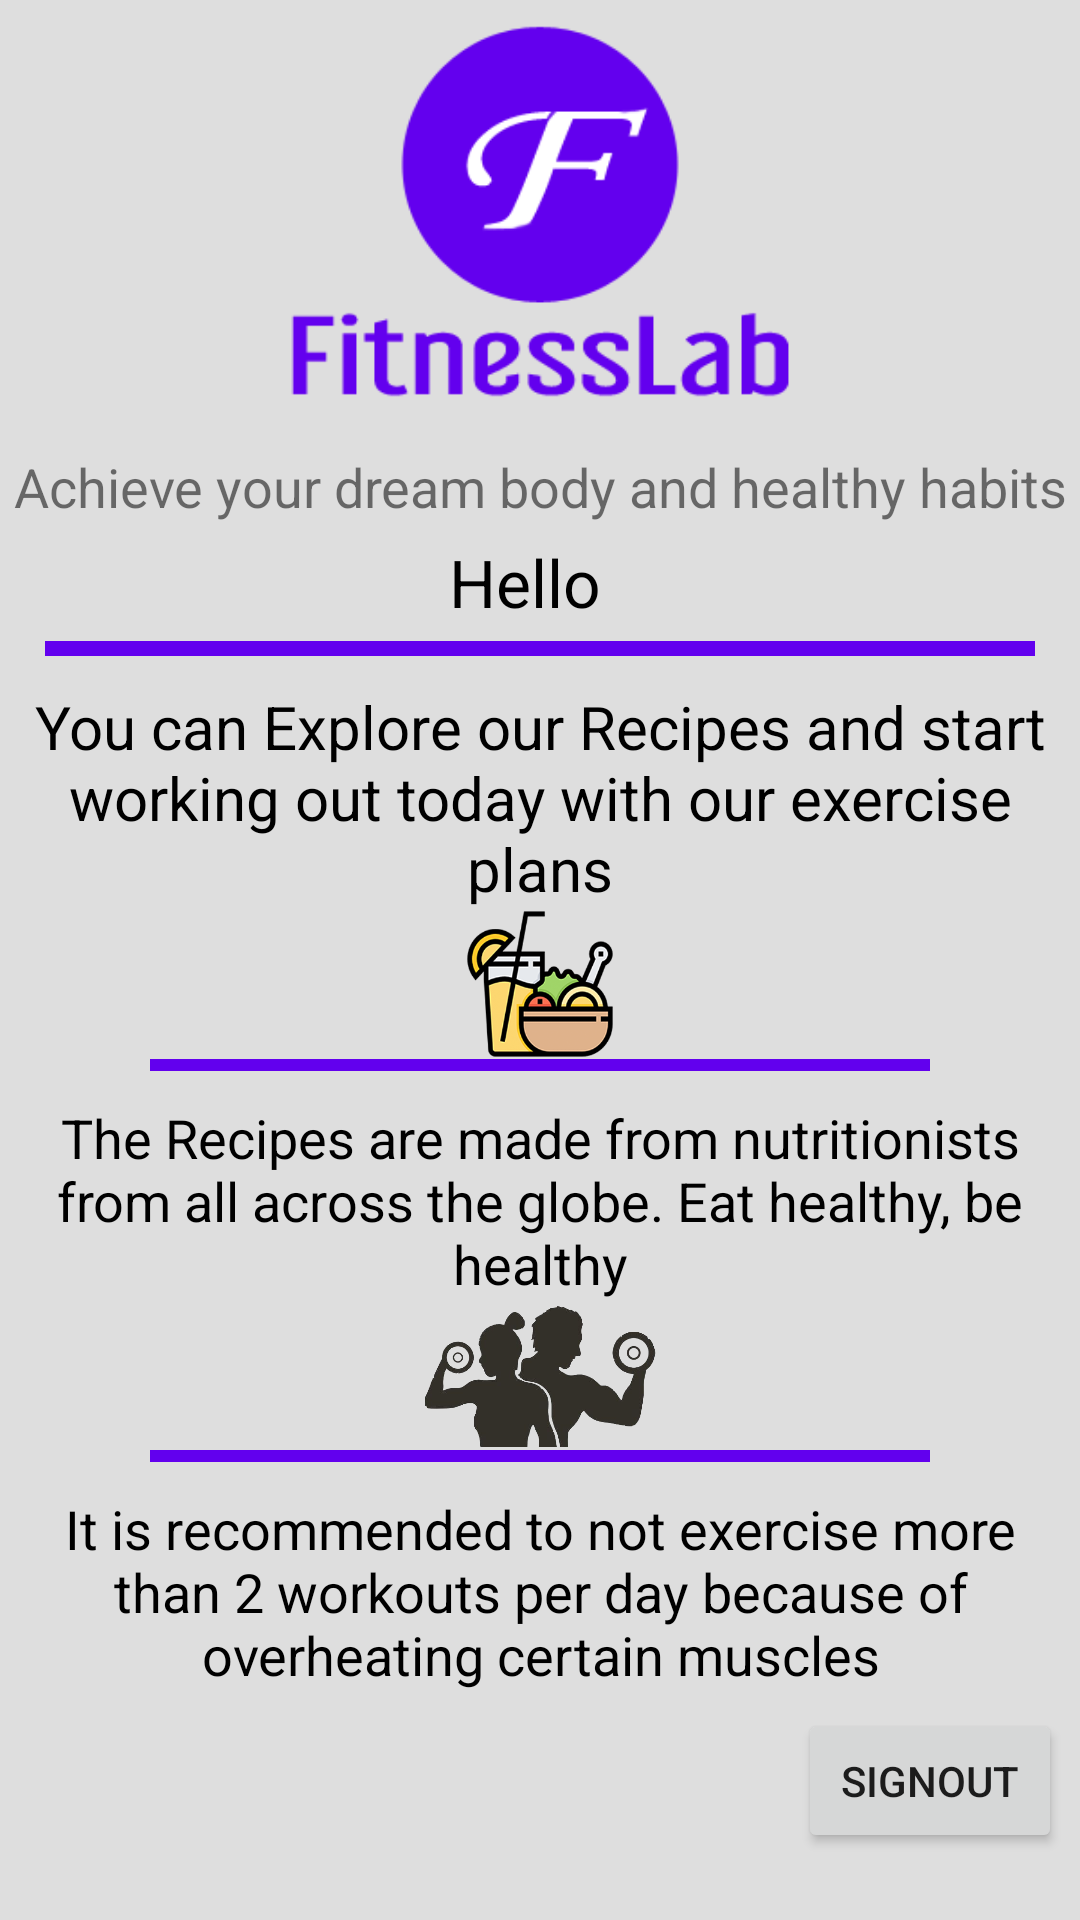

Icons on this 1080x1920 Android screen, each with its box as box(x1, y1, x2, y2):
meal free: box(467, 911, 613, 1057)
